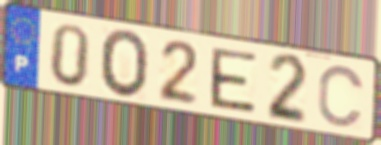0: (48, 23, 92, 89)
2: (266, 51, 309, 127), (158, 38, 201, 107)
C: (316, 63, 367, 129)
E: (208, 46, 259, 116)
O: (98, 27, 151, 100)
